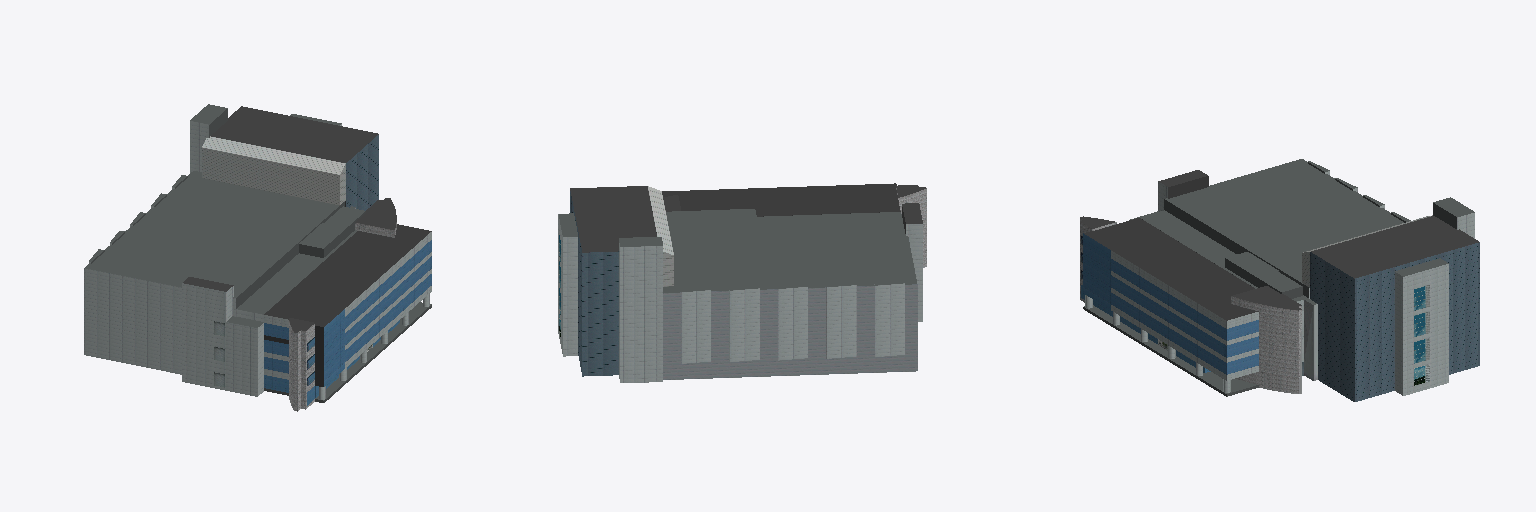
The picture shows the model from 3 angles: view 1: azimuth 30°, elevation 25°; view 2: azimuth 150°, elevation 25°; view 3: azimuth 270°, elevation 25°; orthographic projection.
Visible parts, largest first — view 1: VMtl2479, VMtl2480, VMtl2457, VMtl2451, VMtl2464, VMtl2459, VMtl2475, VMtl2473, VMtl2461, VMtl2453, VMtl2465, VMtl2485 (+5 smaller); view 2: VMtl2479, VMtl2480, VMtl2478, VMtl2483, VMtl2457, VMtl2465, VMtl2464, VMtl2447, VMtl2451, VMtl2481, VMtl2475, VMtl2485; view 3: VMtl2479, VMtl2465, VMtl2457, VMtl2459, VMtl2447, VMtl2464, VMtl2461, VMtl2463, VMtl2453, VMtl2481, VMtl2452, VMtl2454 (+5 smaller).
Part boxes in pixels (x1,y1,x2,y2): VMtl2479: (85, 171, 344, 308); VMtl2480: (84, 268, 235, 374); VMtl2457: (264, 224, 431, 386); VMtl2451: (202, 136, 345, 205); VMtl2464: (211, 106, 378, 206); VMtl2459: (264, 240, 431, 380); VMtl2475: (182, 283, 233, 390); VMtl2473: (226, 322, 263, 396); VMtl2461: (264, 232, 431, 379); VMtl2453: (237, 206, 356, 314); VMtl2465: (346, 135, 378, 210); VMtl2485: (289, 321, 314, 411); VMtl2479: (663, 214, 916, 292); VMtl2480: (663, 284, 917, 379); VMtl2478: (681, 283, 904, 363); VMtl2483: (619, 243, 662, 382); VMtl2457: (662, 183, 900, 216); VMtl2465: (570, 191, 618, 376); VMtl2464: (570, 186, 656, 252); VMtl2447: (558, 214, 577, 356); VMtl2451: (648, 186, 673, 286); VMtl2481: (666, 209, 756, 221); VMtl2475: (906, 224, 922, 321); VMtl2485: (896, 188, 926, 267); VMtl2479: (1164, 159, 1403, 297); VMtl2465: (1310, 242, 1479, 401); VMtl2457: (1084, 218, 1258, 320); VMtl2459: (1083, 242, 1258, 374); VMtl2447: (1395, 264, 1448, 395); VMtl2464: (1311, 216, 1478, 278); VMtl2461: (1111, 250, 1258, 380); VMtl2463: (1231, 296, 1301, 393); VMtl2453: (1140, 210, 1316, 304); VMtl2481: (1225, 252, 1302, 298); VMtl2452: (1083, 305, 1258, 396); VMtl2454: (1297, 300, 1317, 380).
Bounding box in the file's own units: 116 × 47.19 × 126.
Materials: 42 (13 with a texture image).